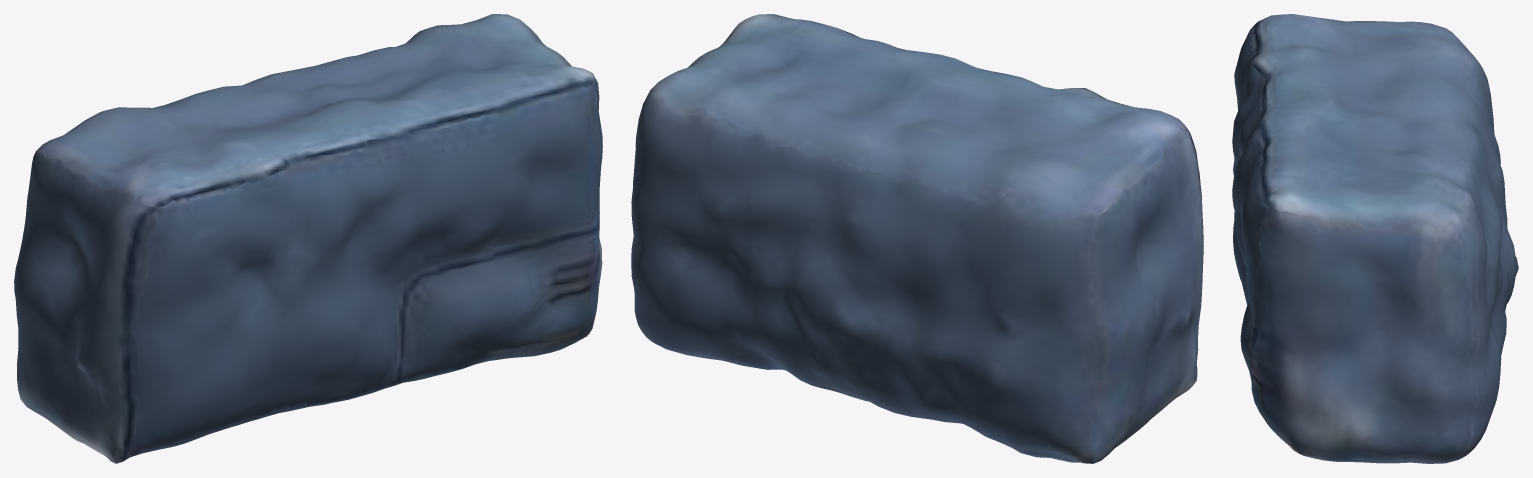
Rendered from 7_monitor,_computer_equipment_computer_monitor.glb.
3 renders of one model, left to right at view 1: azimuth 30°, elevation 25°; view 2: azimuth 150°, elevation 25°; view 3: azimuth 270°, elevation 25°, orthographic. The views are drawn at different scales.
Parts seen in each view (by area): view 1: 7_monitor,_computer_equipment_computer_monitor; view 2: 7_monitor,_computer_equipment_computer_monitor; view 3: 7_monitor,_computer_equipment_computer_monitor.
Boxes of the visible parts, <box> form: 7_monitor,_computer_equipment_computer_monitor: <box>14,14,602,463</box>; 7_monitor,_computer_equipment_computer_monitor: <box>631,14,1203,463</box>; 7_monitor,_computer_equipment_computer_monitor: <box>1232,14,1518,463</box>.
Size of the model in its own units: 0.3245 by 0.1875 by 0.1679.
Materials: 1 (1 with a texture image).
